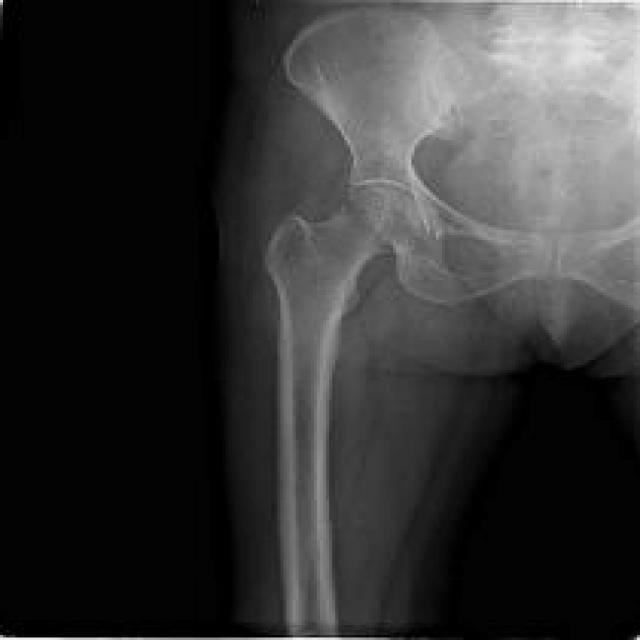normal: (267, 12, 636, 629)
